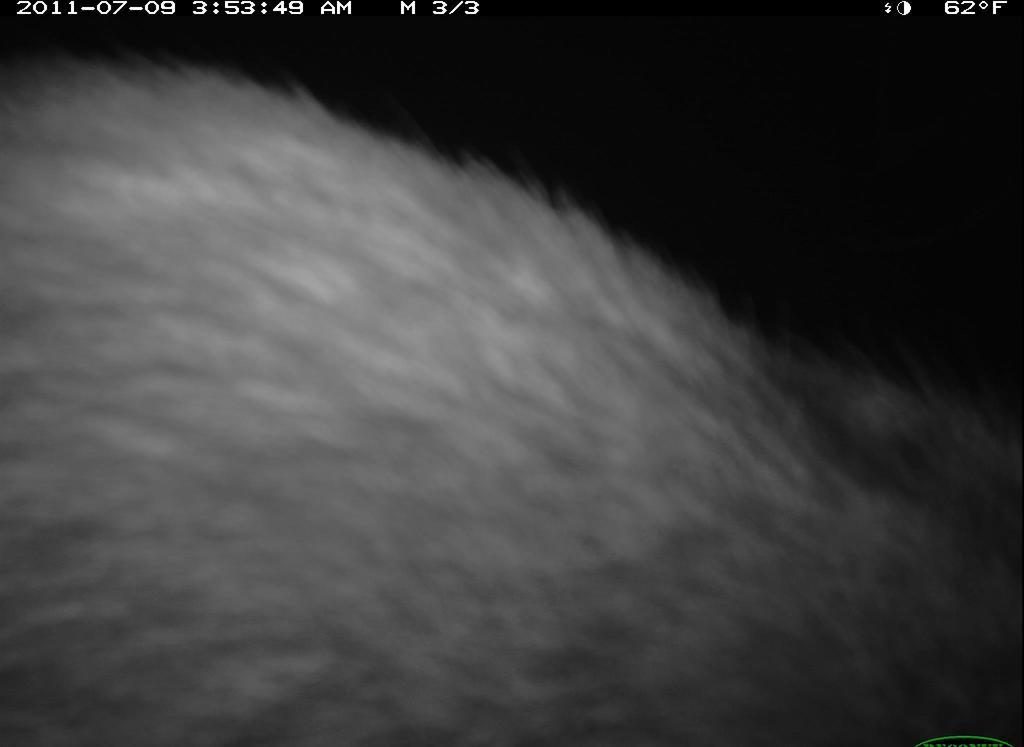raccoon: (2, 47, 1023, 747)
